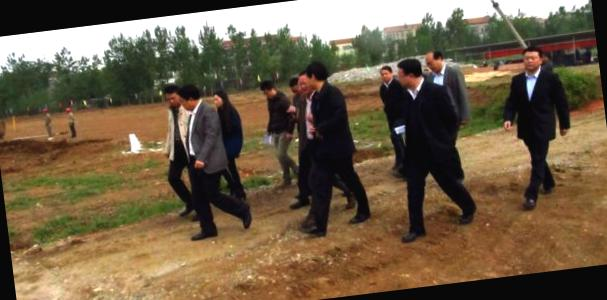no_helmet: (390, 54, 428, 94), (177, 80, 206, 113), (519, 42, 548, 74), (307, 58, 330, 94), (160, 76, 184, 107), (422, 46, 444, 76), (257, 76, 279, 103), (209, 87, 230, 109), (377, 62, 396, 84), (298, 71, 314, 95), (286, 74, 303, 96)
